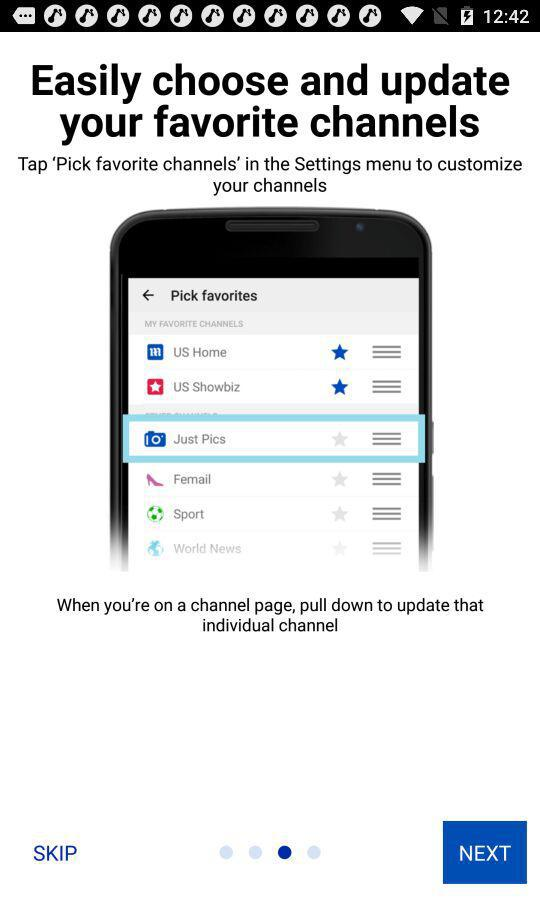Image: (110, 207, 435, 577)
PageIndicator: (219, 844, 323, 861)
Text: (32, 63, 510, 147), (17, 156, 523, 198), (56, 597, 484, 633), (34, 844, 79, 862)
TextButton: (443, 821, 528, 884)
UpperTaskBar: (1, 1, 540, 33)
